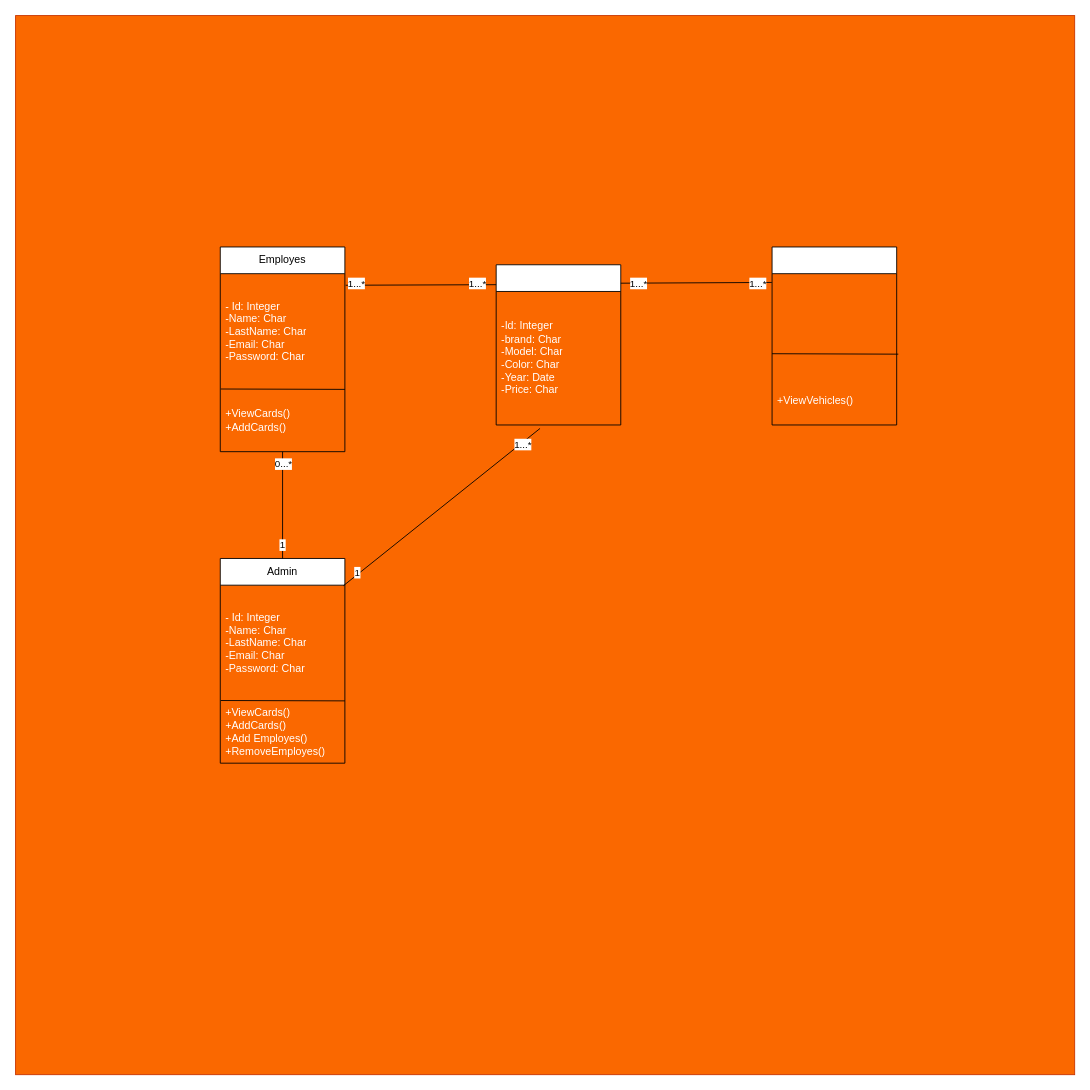
Image size: 1090x1090. Some labels were removed from this diagram. Each missing label, with the box of its shape:
Guest: (771, 246, 897, 425)
Vehicles: (495, 264, 621, 425)
